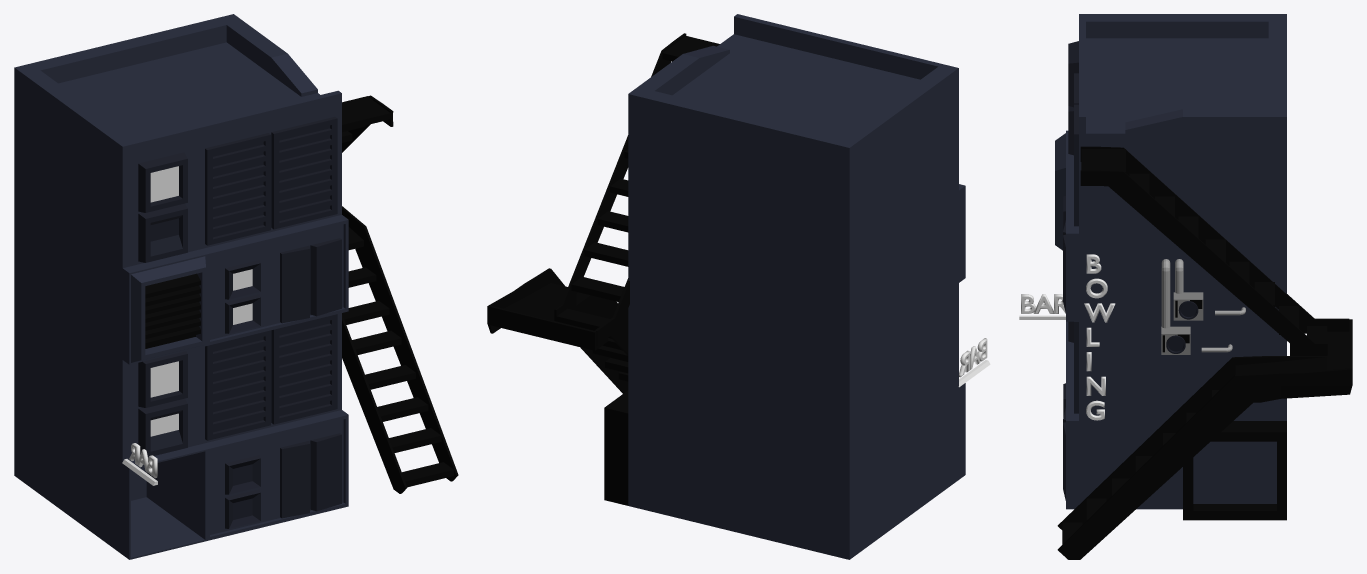
File: bina2.fbx
3 views of the same model, side by side, from view 1: azimuth 30°, elevation 25°; view 2: azimuth 150°, elevation 25°; view 3: azimuth 270°, elevation 25° (orthographic). The views are drawn at different scales.
Visible parts, largest first — view 1: Cube.061, Cube.064, Cube.059, Cube.063, Cube.069, Cube.070, Cube.068, Text; view 2: Cube.061, Cube.059, Cube.063; view 3: Cube.061, Cube.059, Cube.063, Cube.064, Text.003, Plane.001, Cube.065, Cube.066, Text.
Boxes of the visible parts, bbox=[...] form: Cube.061: bbox=[14, 14, 348, 559]; Cube.064: bbox=[138, 116, 341, 528]; Cube.059: bbox=[342, 95, 458, 493]; Cube.063: bbox=[145, 273, 200, 348]; Cube.069: bbox=[150, 361, 178, 436]; Cube.070: bbox=[150, 166, 178, 202]; Cube.068: bbox=[233, 269, 252, 324]; Text: bbox=[129, 443, 157, 478]; Cube.061: bbox=[628, 14, 965, 559]; Cube.059: bbox=[487, 33, 719, 393]; Cube.063: bbox=[604, 390, 628, 505]; Cube.061: bbox=[1055, 14, 1286, 509]; Cube.059: bbox=[1057, 146, 1352, 559]; Cube.063: bbox=[1183, 421, 1286, 520]; Cube.064: bbox=[1063, 41, 1078, 500]; Text.003: bbox=[1084, 254, 1115, 420]; Plane.001: bbox=[1161, 259, 1183, 328]; Cube.065: bbox=[1173, 292, 1203, 320]; Cube.066: bbox=[1161, 326, 1190, 354]; Text: bbox=[1021, 294, 1065, 313].
Size of the model in its own units: 662 by 796 by 611.
